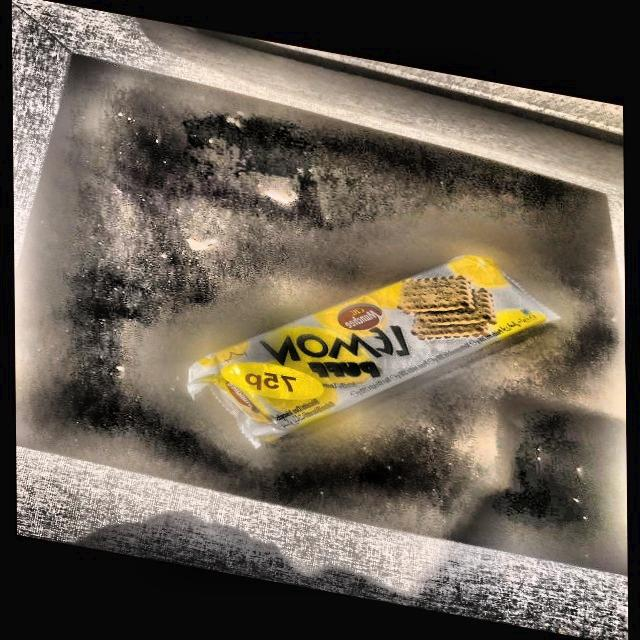lemon puff: (190, 260, 566, 443)
